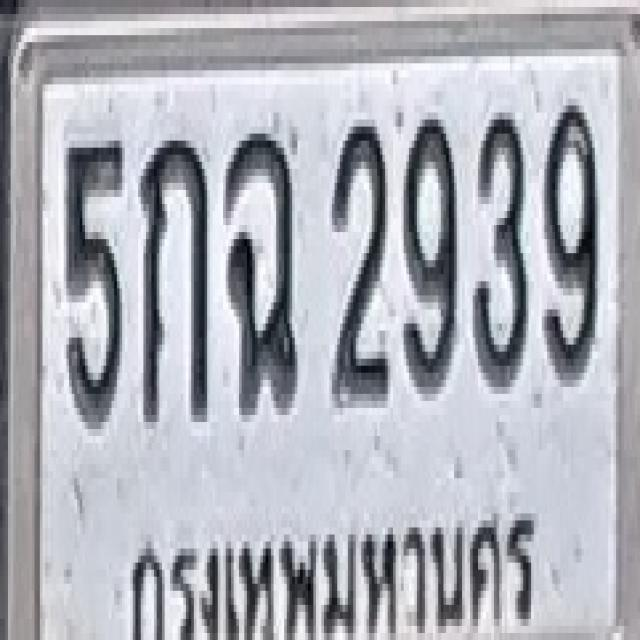-: (223, 127, 297, 415), (140, 134, 208, 422)
2: (329, 119, 388, 401)
3: (472, 105, 528, 387)
5: (64, 130, 122, 426)
9: (401, 112, 457, 394), (542, 98, 598, 380)
BKK: (123, 499, 545, 640)
